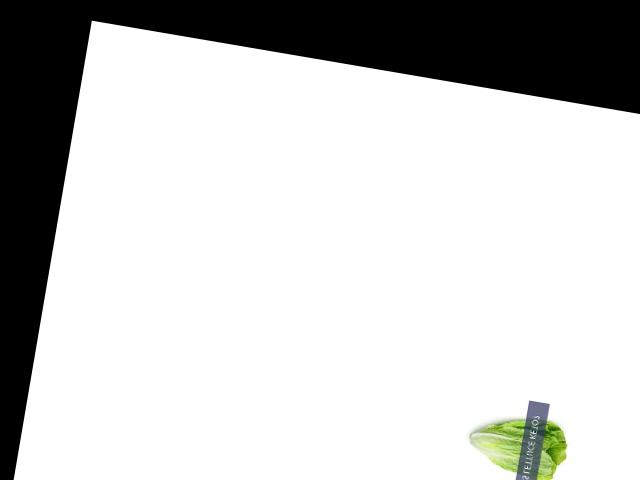lettuce: (455, 401, 572, 480)
